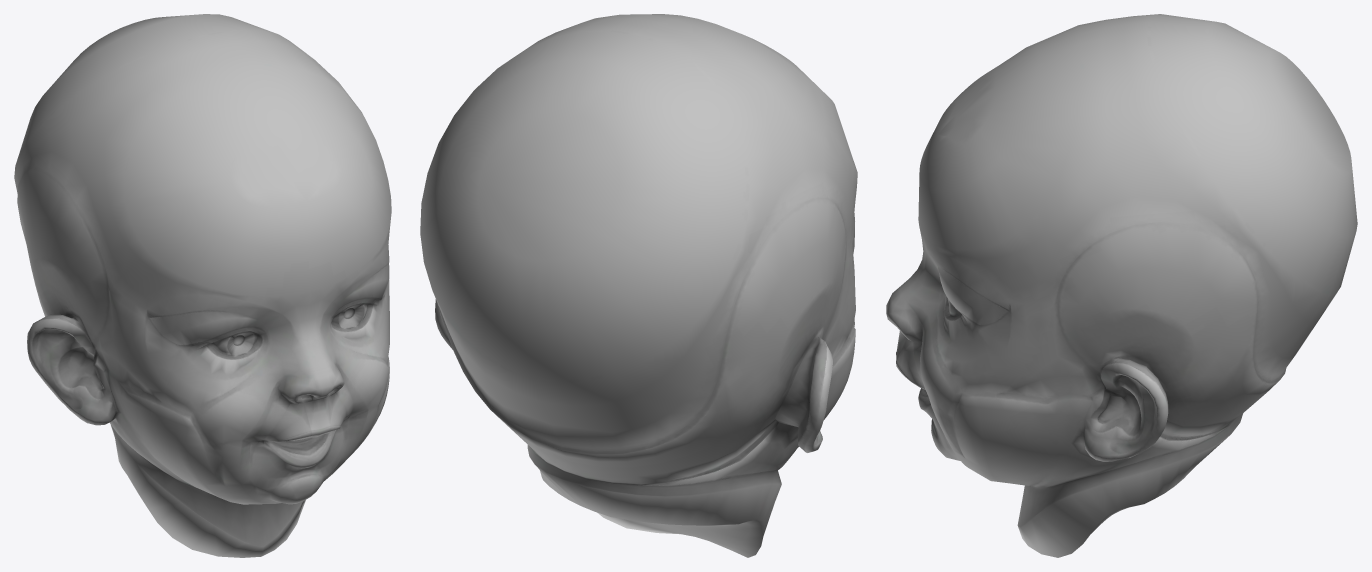
The model's file is 头部分面体__石膏头像_男童_表情_Muscle man sections_Olivers_std_opt.glb.
3 views of the same model, side by side, from view 1: azimuth 30°, elevation 25°; view 2: azimuth 150°, elevation 25°; view 3: azimuth 270°, elevation 25° (orthographic). The views are drawn at different scales.
Visible parts, largest first — view 1: Olivers_1; view 2: Olivers_1; view 3: Olivers_1.
Boxes of the visible parts, x1=… form: Olivers_1: x1=14, y1=14, x2=391, y2=557; Olivers_1: x1=420, y1=14, x2=857, y2=557; Olivers_1: x1=886, y1=14, x2=1357, y2=557.
Bounding box in the file's own units: 0.2221 × 0.3 × 0.2531.
1 material, 1 textured.
